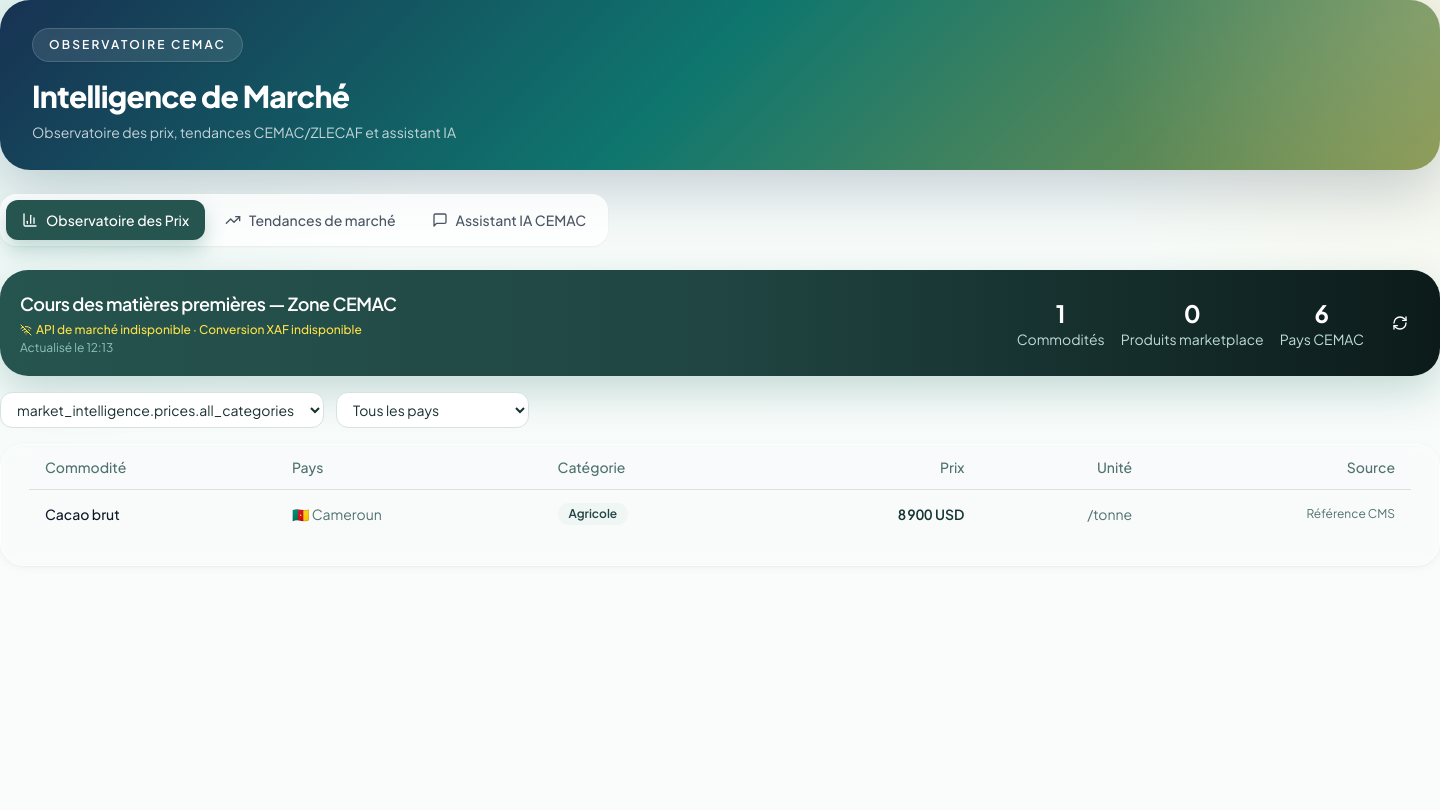
Test: MarketIntelligencePage — assistant tab › shows suggestion buttons
Click the button "Assistant IA CEMAC" at (509, 220), box left=416, top=200, right=602, bottom=240
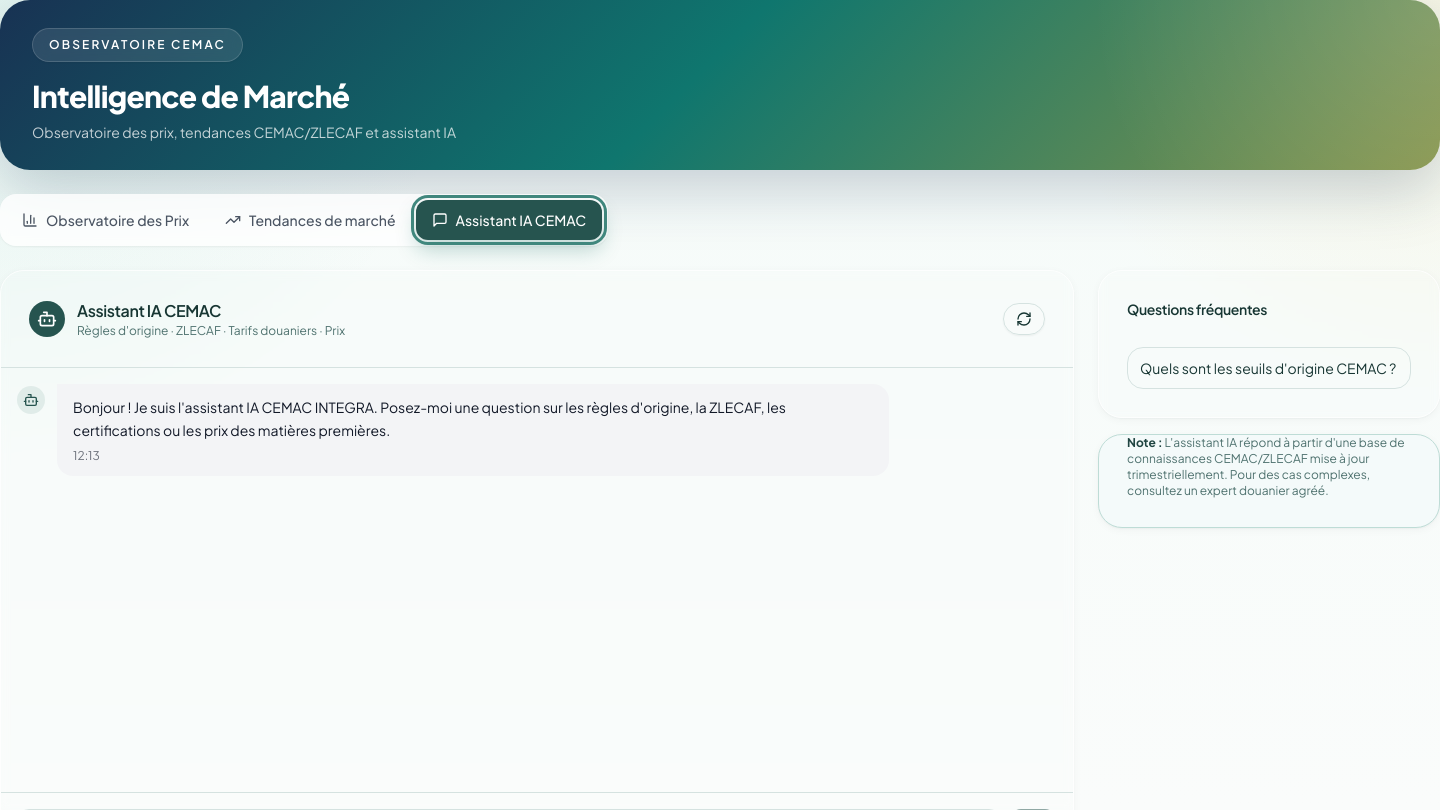
Result: the button "Quels sont les seuils d'origine CEMAC ?" is shown at left=1127, top=347, right=1411, bottom=389
